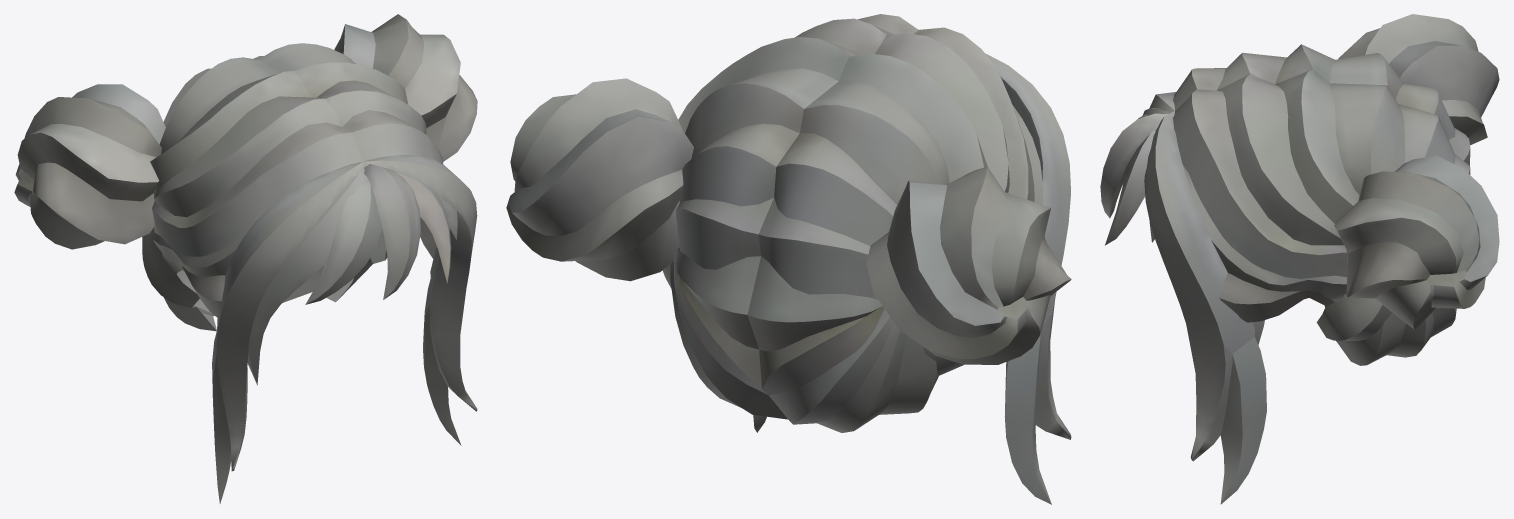
Rendered from Hair_Buns.glb.
3 views of the same model, side by side, from view 1: azimuth 30°, elevation 25°; view 2: azimuth 150°, elevation 25°; view 3: azimuth 270°, elevation 25° (orthographic). The views are drawn at different scales.
Visible parts, largest first — view 1: Hair_Buns; view 2: Hair_Buns; view 3: Hair_Buns.
Part boxes in pixels (x1,y1,x2,y2): Hair_Buns: [14, 14, 477, 503]; Hair_Buns: [506, 14, 1071, 504]; Hair_Buns: [1100, 14, 1499, 504].
Size of the model in its own units: 0.3015 by 0.2491 by 0.2368.
1 material, 1 textured.
